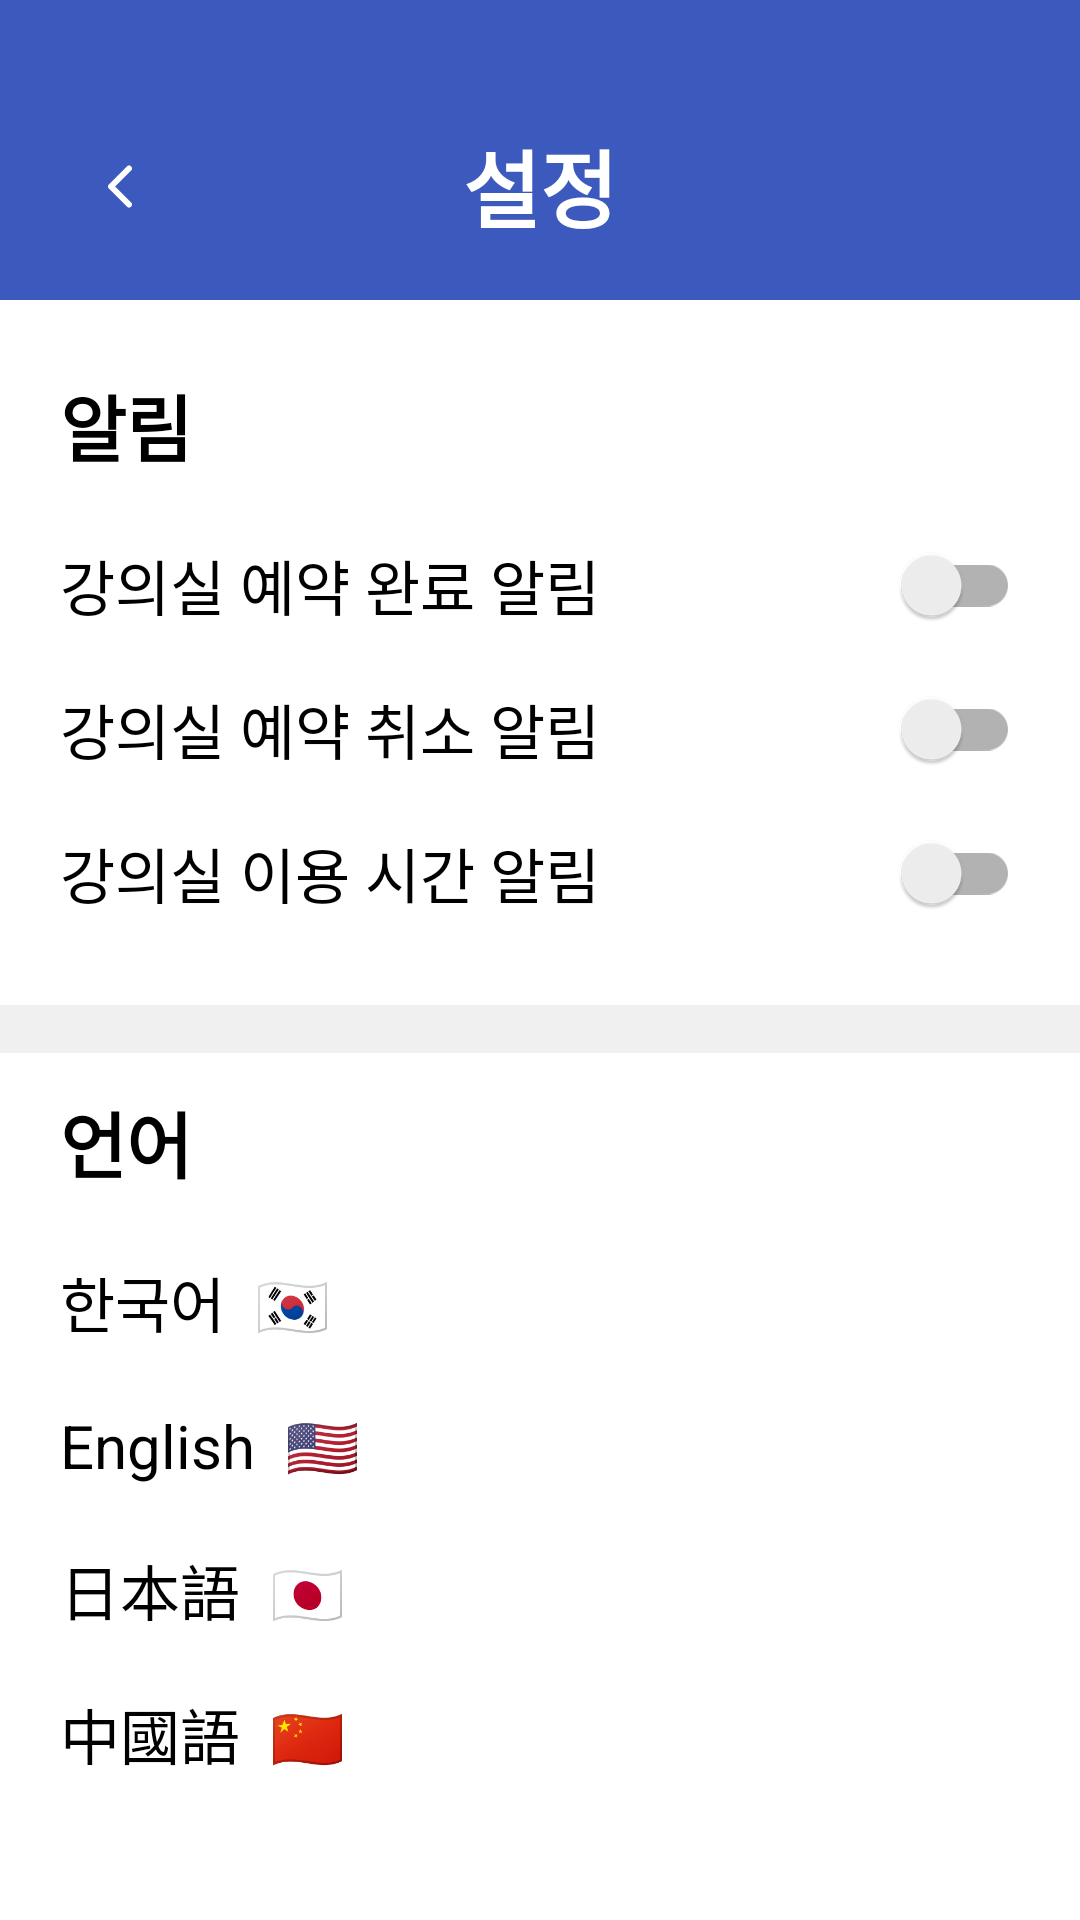

Screen size 1080 × 1920. Icon name, then its box in pixels as (x1=x1, y1=y1, x2=x2, y2=y2):
뒤로가기: (x1=108, y1=165, x2=132, y2=208)
